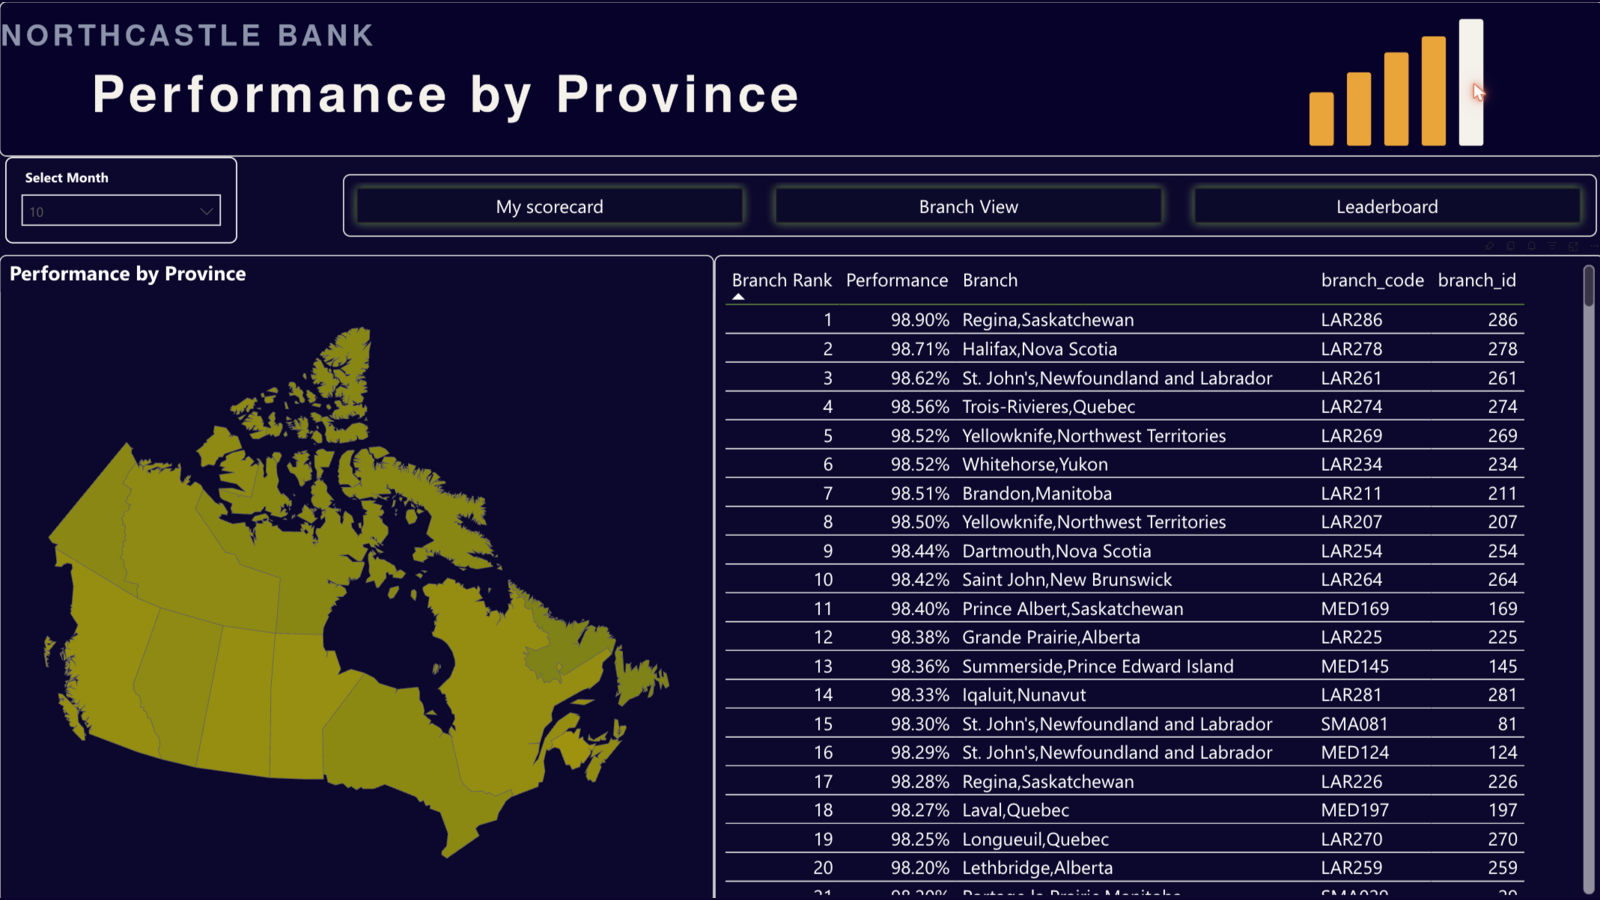

Layout of this report page (visuals, bound fields, positions):
{"tool":"powerbi","page":{"name":"Performance by province","canvas":[1280,720],"ordinal":4},"visuals":[{"type":"image","box":[0,0,1280,124],"z":0},{"type":"shapeMap","title":"Performance by Province","fields":{"Category":["dim_branch.province"],"Value":["fact_sales.Branch Score"]},"box":[0,202.2,569.9,517.8],"z":1000},{"type":"tableEx","fields":{"Values":["fact_sales.Branch Rank","fact_sales.Branch Score","dim_branch.Branch","dim_branch.branch_code","dim_branch.branch_id"]},"box":[569.9,202.2,710.1,517.8],"z":2000},{"type":"slicer","title":"Select Month","fields":{"Values":["dim_month.month_number"]},"box":[0,124,248.7,78.2],"z":3000},{"type":"pageNavigator","box":[274.1,138,1000.1,50.3],"z":4000}]}

Visuals, with their boxes in screenshot pixels (x1, y1, x2, y2), scaled from the page's 1280x720 canvas onto the 1600x900 screenshot:
image: (left=0, top=0, right=1599, bottom=155)
"Performance by Province" shapeMap: (left=0, top=253, right=712, bottom=899)
tableEx - fact_sales.Branch Rank x fact_sales.Branch Score: (left=712, top=253, right=1599, bottom=899)
"Select Month" slicer: (left=0, top=155, right=311, bottom=253)
pageNavigator: (left=343, top=172, right=1593, bottom=235)
